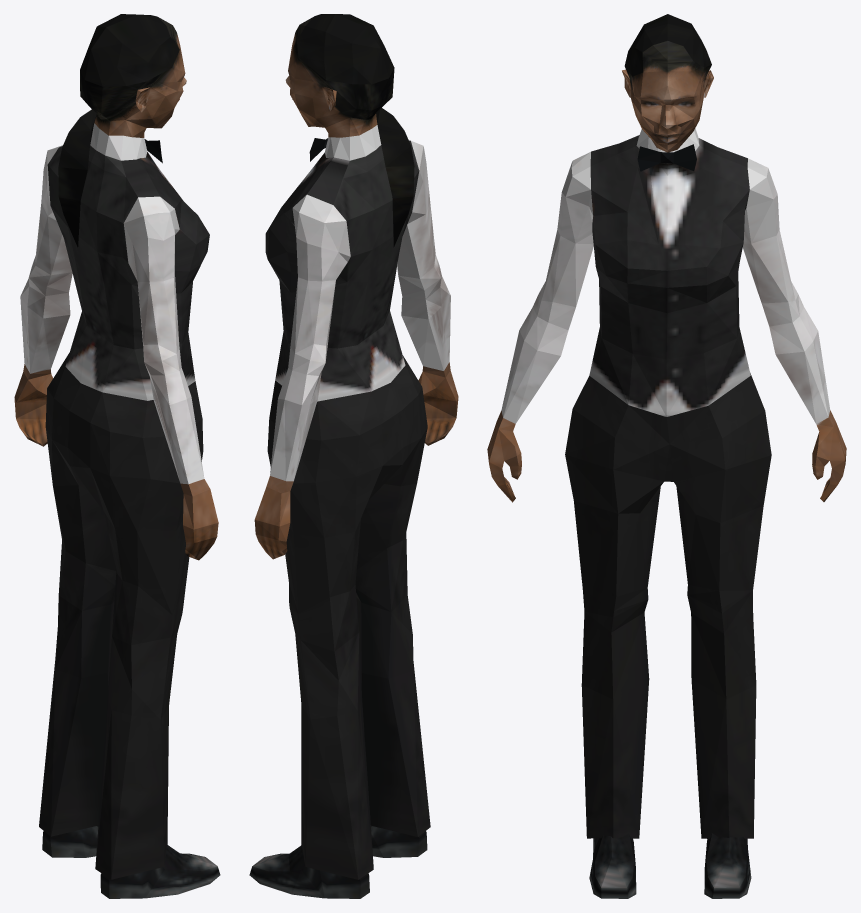
The model's file is vbfycrp.obj.
3 views of the same model, side by side, from view 1: azimuth 30°, elevation 25°; view 2: azimuth 150°, elevation 25°; view 3: azimuth 270°, elevation 25° (orthographic).
Visible parts, largest first — view 1: _Pelvis; view 2: _Pelvis; view 3: _Pelvis.
Boxes of the visible parts, bbox=[...] form: _Pelvis: bbox=[14, 14, 220, 898]; _Pelvis: bbox=[249, 14, 458, 898]; _Pelvis: bbox=[487, 14, 846, 898].
Bounding box in the file's own units: 0.2999 × 1.8 × 0.6856.
Materials: 1 (1 with a texture image).
